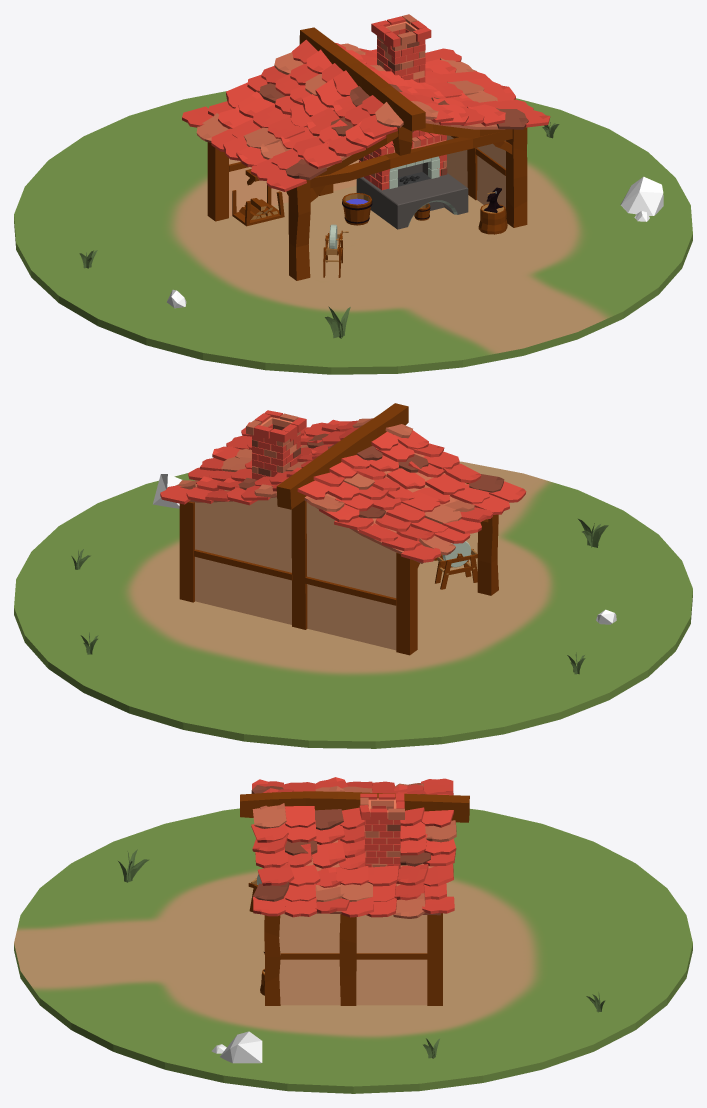
3 views of the same model, one above another, from view 1: azimuth 30°, elevation 25°; view 2: azimuth 150°, elevation 25°; view 3: azimuth 270°, elevation 25° (orthographic).
Visible parts, largest first — view 1: Ground, Roof.001, Frame, Furnace, Roof, Wall, Rock.001, Bucket, Wood Store, Stump, Grinding Wheel; view 2: Ground, Wall, Roof.001, Frame, Roof, Furnace, Grinding Wheel; view 3: Ground, Roof, Wall, Frame, Furnace, Roof.001, Rock.001.
Boxes of the visible parts, bbox=[...] form: Ground: bbox=[14, 91, 692, 374]; Roof.001: bbox=[182, 39, 403, 191]; Frame: bbox=[207, 27, 527, 280]; Furnace: bbox=[356, 14, 468, 229]; Roof: bbox=[335, 43, 550, 129]; Wall: bbox=[229, 135, 505, 216]; Rock.001: bbox=[620, 176, 663, 215]; Bucket: bbox=[342, 193, 372, 225]; Wood Store: bbox=[232, 185, 284, 226]; Stump: bbox=[478, 204, 507, 234]; Grinding Wheel: bbox=[323, 224, 348, 277]; Ground: bbox=[14, 461, 692, 748]; Wall: bbox=[195, 497, 396, 650]; Roof.001: bbox=[297, 424, 526, 562]; Frame: bbox=[179, 403, 498, 655]; Roof: bbox=[160, 418, 372, 505]; Furnace: bbox=[246, 410, 306, 479]; Grinding Wheel: bbox=[434, 541, 477, 589]; Ground: bbox=[14, 808, 692, 1093]; Roof: bbox=[251, 803, 456, 918]; Wall: bbox=[279, 913, 427, 1005]; Frame: bbox=[240, 791, 469, 1005]; Furnace: bbox=[359, 793, 404, 868]; Roof.001: bbox=[251, 777, 453, 809]; Rock.001: bbox=[219, 1031, 262, 1063].
Bounding box in the file's own units: 25 × 7.23 × 25.
17 materials, 1 textured.
